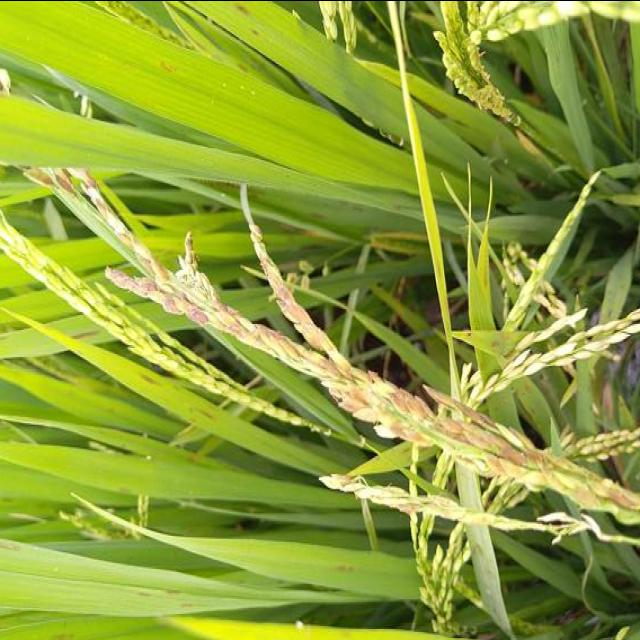Panicle Blight: (105, 266, 211, 326), (259, 254, 326, 347), (442, 418, 537, 466), (219, 312, 302, 361), (421, 383, 496, 427), (122, 230, 168, 278), (329, 388, 380, 422), (389, 388, 437, 419), (21, 167, 73, 194), (82, 171, 109, 218), (178, 228, 201, 273), (389, 425, 435, 446), (319, 356, 353, 383), (479, 455, 514, 478), (560, 487, 601, 505), (213, 290, 239, 317), (608, 488, 640, 509), (394, 502, 430, 517), (321, 472, 354, 487), (359, 370, 384, 383)
